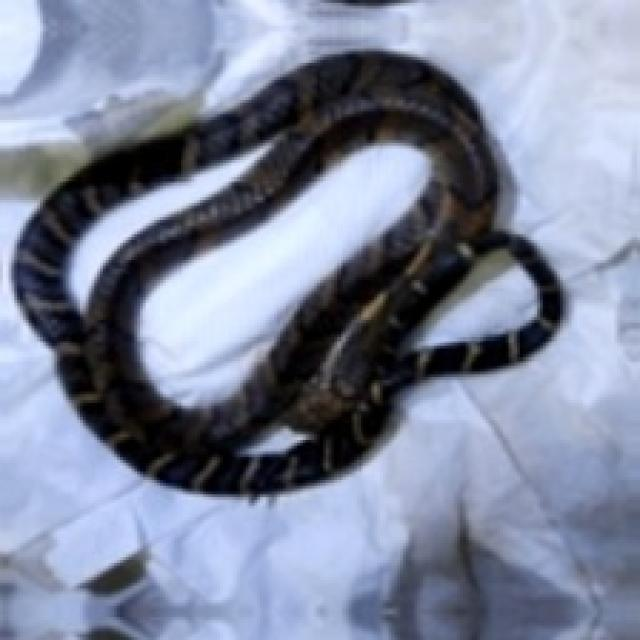king cobra: (11, 51, 560, 494)
